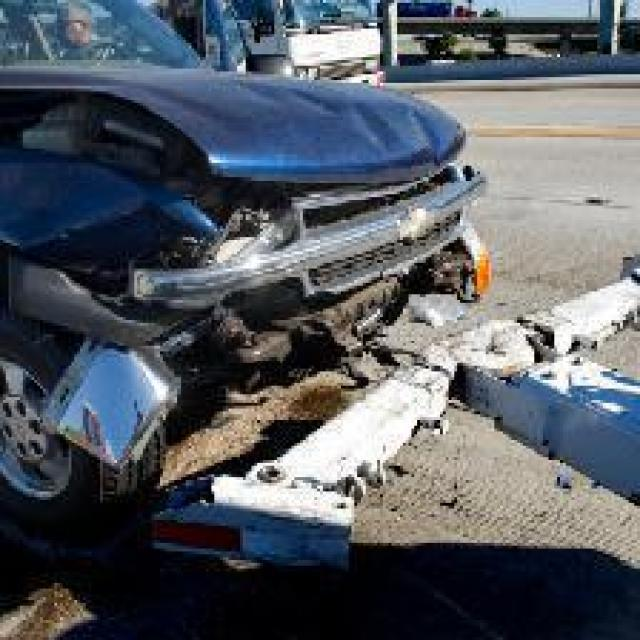damaged: (0, 71, 494, 491)
